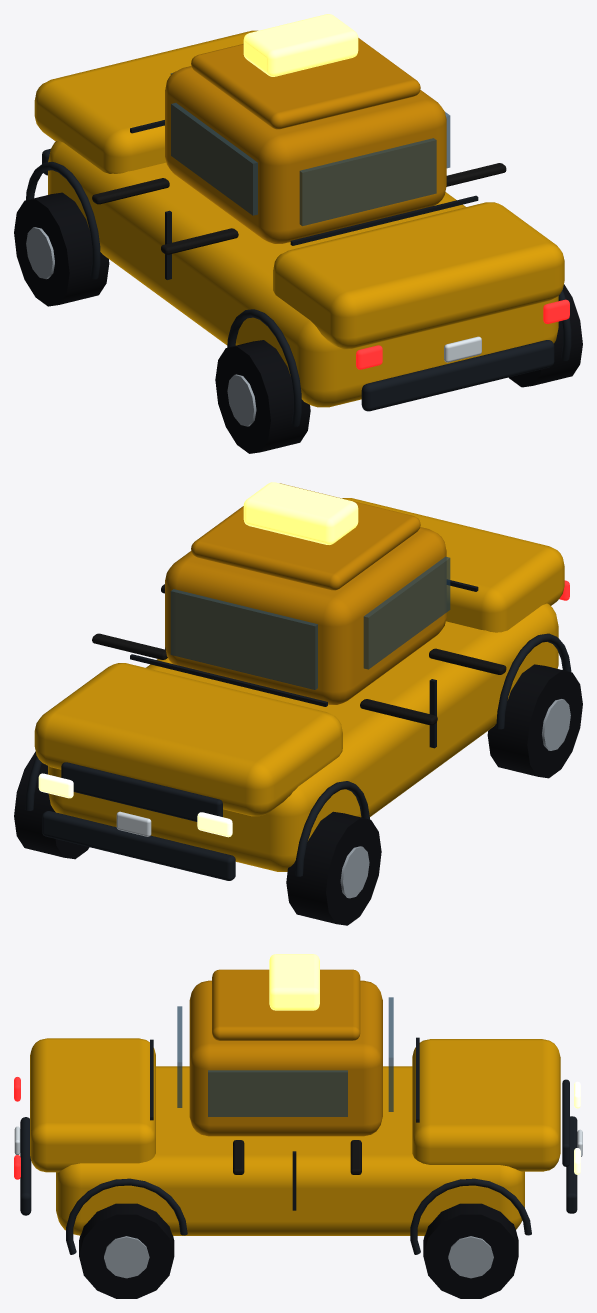
Rendered from taxi_far.glb.
3 renders of one model, top to bottom at view 1: azimuth 30°, elevation 25°; view 2: azimuth 150°, elevation 25°; view 3: azimuth 270°, elevation 25°, orthographic. The views are drawn at different scales.
Visible parts, largest first — view 1: taxi_far_rounded_sedan_lower_body_panel, taxi_far_rounded_passenger_cabin_body_panel, taxi_far_rear_trunk_deck_body_panel_with_soft_bevel, taxi_far_front_hood_body_panel_with_soft_bevel, taxi_far_subtle_roof_panel_bevel, taxi_far_rear_window_glass, taxi_far_rear_left_wheel_tire, taxi_far_front_left_wheel_tire, taxi_far_rear_bumper_dark_trim, taxi_far_illuminated_taxi_roof_sign, taxi_far_left_side_window_glass_band, taxi_far_rear_right_wheel_tire (+9 smaller); view 2: taxi_far_rounded_passenger_cabin_body_panel, taxi_far_rounded_sedan_lower_body_panel, taxi_far_front_hood_body_panel_with_soft_bevel, taxi_far_rear_trunk_deck_body_panel_with_soft_bevel, taxi_far_subtle_roof_panel_bevel, taxi_far_front_windshield_glass, taxi_far_front_left_wheel_tire, taxi_far_rear_left_wheel_tire, taxi_far_front_lower_air_intake_body_panel_break, taxi_far_illuminated_taxi_roof_sign, taxi_far_left_side_window_glass_band, taxi_far_front_grille_dark_trim (+12 smaller); view 3: taxi_far_rounded_sedan_lower_body_panel, taxi_far_rounded_passenger_cabin_body_panel, taxi_far_front_hood_body_panel_with_soft_bevel, taxi_far_rear_trunk_deck_body_panel_with_soft_bevel, taxi_far_subtle_roof_panel_bevel, taxi_far_right_side_window_glass_band, taxi_far_front_right_wheel_tire, taxi_far_rear_right_wheel_tire, taxi_far_illuminated_taxi_roof_sign, taxi_far_front_right_wheel_outer_hub, taxi_far_rear_right_wheel_outer_hub, taxi_far_front_right_rounded_wheel_arch_panel_trim (+6 smaller).
Boxes of the visible parts, x1=… form: taxi_far_rounded_sedan_lower_body_panel: x1=48, y1=140, x2=558, y2=407; taxi_far_rounded_passenger_cabin_body_panel: x1=165, y1=66, x2=446, y2=243; taxi_far_rear_trunk_deck_body_panel_with_soft_bevel: x1=273, y1=202, x2=564, y2=349; taxi_far_front_hood_body_panel_with_soft_bevel: x1=34, y1=30, x2=257, y2=173; taxi_far_subtle_roof_panel_bevel: x1=191, y1=38, x2=420, y2=129; taxi_far_rear_window_glass: x1=299, y1=138, x2=436, y2=226; taxi_far_rear_left_wheel_tire: x1=215, y1=340, x2=310, y2=453; taxi_far_front_left_wheel_tire: x1=14, y1=192, x2=109, y2=306; taxi_far_rear_bumper_dark_trim: x1=361, y1=340, x2=554, y2=411; taxi_far_illuminated_taxi_roof_sign: x1=243, y1=14, x2=358, y2=76; taxi_far_left_side_window_glass_band: x1=171, y1=103, x2=257, y2=215; taxi_far_rear_right_wheel_tire: x1=509, y1=284, x2=582, y2=387; taxi_far_rounded_passenger_cabin_body_panel: x1=165, y1=527, x2=446, y2=704; taxi_far_rounded_sedan_lower_body_panel: x1=48, y1=603, x2=558, y2=871; taxi_far_front_hood_body_panel_with_soft_bevel: x1=34, y1=663, x2=342, y2=816; taxi_far_rear_trunk_deck_body_panel_with_soft_bevel: x1=342, y1=498, x2=564, y2=632; taxi_far_subtle_roof_panel_bevel: x1=191, y1=483, x2=420, y2=590; taxi_far_front_windshield_glass: x1=170, y1=589, x2=317, y2=689; taxi_far_front_left_wheel_tire: x1=286, y1=811, x2=381, y2=925; taxi_far_rear_left_wheel_tire: x1=487, y1=664, x2=582, y2=778; taxi_far_front_lower_air_intake_body_panel_break: x1=42, y1=811, x2=235, y2=880; taxi_far_illuminated_taxi_roof_sign: x1=243, y1=482, x2=358, y2=544; taxi_far_left_side_window_glass_band: x1=363, y1=556, x2=450, y2=669; taxi_far_front_grille_dark_trim: x1=61, y1=762, x2=222, y2=821; taxi_far_rounded_sedan_lower_body_panel: x1=56, y1=1066, x2=524, y2=1235; taxi_far_rounded_passenger_cabin_body_panel: x1=189, y1=980, x2=382, y2=1136; taxi_far_front_hood_body_panel_with_soft_bevel: x1=412, y1=1039, x2=560, y2=1171; taxi_far_rear_trunk_deck_body_panel_with_soft_bevel: x1=30, y1=1038, x2=155, y2=1172; taxi_far_subtle_roof_panel_bevel: x1=212, y1=969, x2=360, y2=1040; taxi_far_right_side_window_glass_band: x1=208, y1=1070, x2=347, y2=1116; taxi_far_front_right_wheel_tire: x1=423, y1=1203, x2=518, y2=1298; taxi_far_rear_right_wheel_tire: x1=79, y1=1203, x2=174, y2=1298; taxi_far_illuminated_taxi_roof_sign: x1=269, y1=954, x2=319, y2=1010; taxi_far_front_right_wheel_outer_hub: x1=448, y1=1236, x2=493, y2=1278; taxi_far_rear_right_wheel_outer_hub: x1=104, y1=1236, x2=149, y2=1278; taxi_far_front_right_rounded_wheel_arch_panel_trim: x1=410, y1=1178, x2=531, y2=1254.
Bounding box in the file's own units: 2.41 × 2.07 × 4.06.
